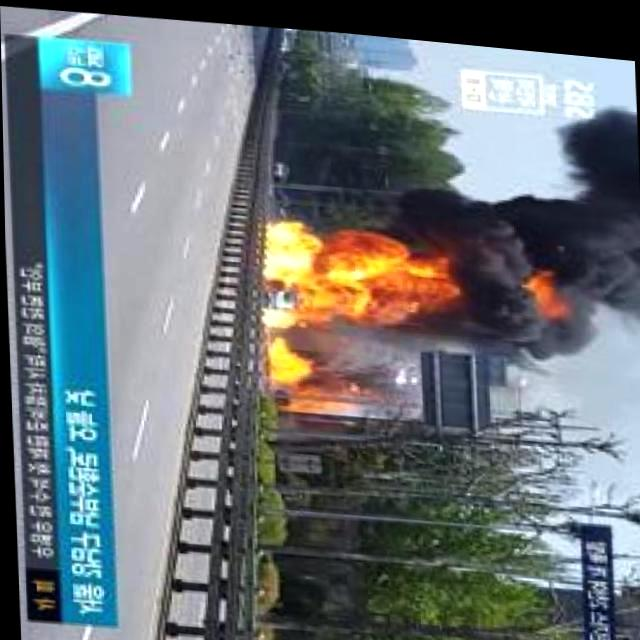fire: (261, 208, 443, 324), (270, 339, 312, 385), (287, 386, 363, 406)
